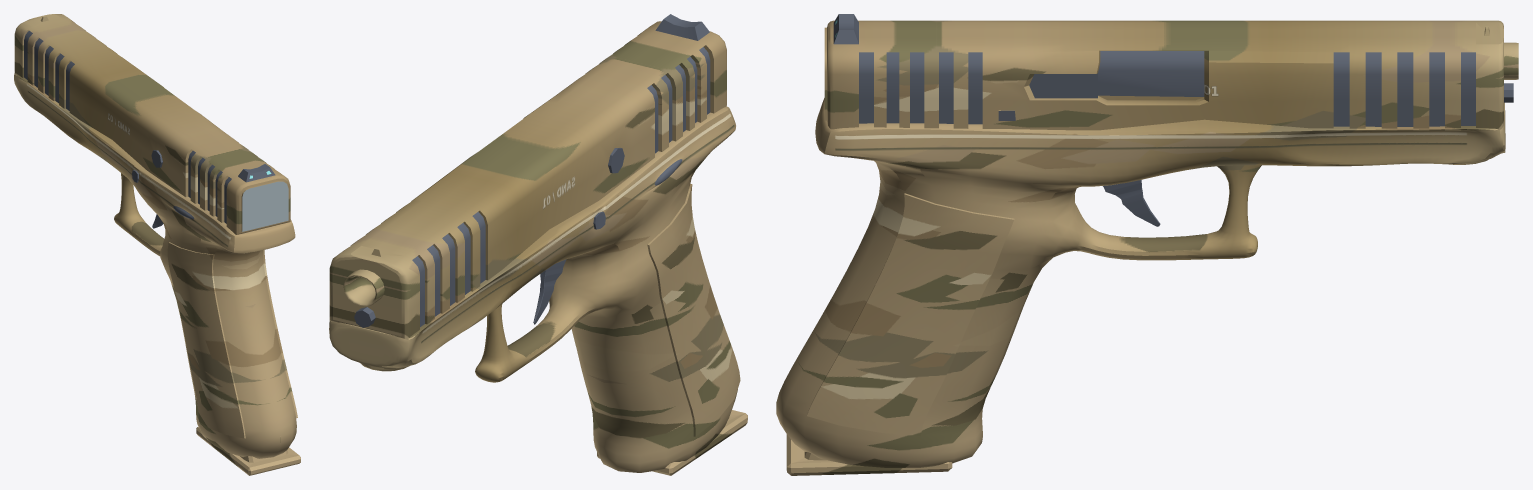
Rendered from glock17_camouflage.glb.
3 views of the same model, side by side, from view 1: azimuth 30°, elevation 25°; view 2: azimuth 150°, elevation 25°; view 3: azimuth 270°, elevation 25° (orthographic). The views are drawn at different scales.
Visible parts, largest first — view 1: Cube.025, Cube.022, Cube.024; view 2: Cube.025, Cube.022, Cube.024, Cube.023; view 3: Cube.025, Cube.022, Cube.024, Cube.023.
Part boxes in pixels (x1=…): Cube.025: x1=14, y1=73, x2=297, y2=458; Cube.022: x1=14, y1=14, x2=290, y2=234; Cube.024: x1=196, y1=427, x2=300, y2=475; Cube.025: x1=329, y1=106, x2=740, y2=472; Cube.022: x1=329, y1=14, x2=726, y2=339; Cube.024: x1=597, y1=410, x2=747, y2=475; Cube.023: x1=533, y1=259, x2=566, y2=324; Cube.025: x1=776, y1=42, x2=1518, y2=467; Cube.022: x1=824, y1=14, x2=1513, y2=130; Cube.024: x1=786, y1=434, x2=952, y2=475; Cube.023: x1=1103, y1=180, x2=1160, y2=226.
Size of the model in its own units: 0.8186 by 3.06 by 4.73.
4 materials, 1 textured.
